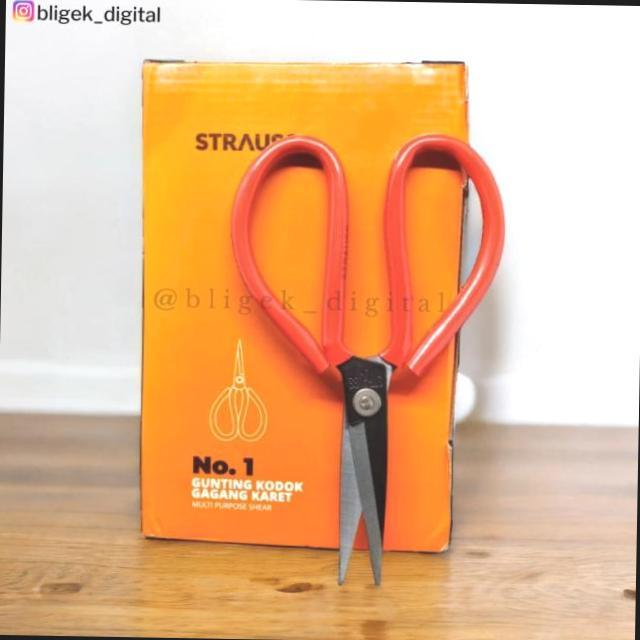Scissors: (204, 115, 526, 611)
